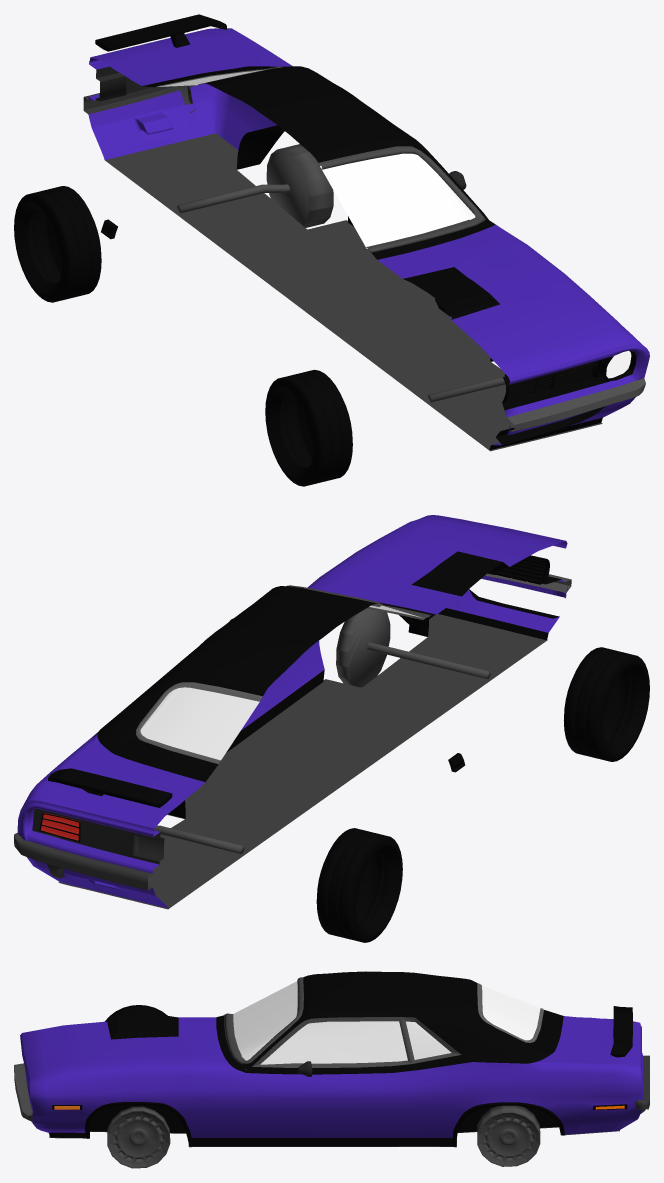
Rendered from bus1.glb.
3 views of the same model, one above another, from view 1: azimuth 30°, elevation 25°; view 2: azimuth 150°, elevation 25°; view 3: azimuth 270°, elevation 25° (orthographic). The views are drawn at different scales.
Visible parts, largest first — view 1: Low poly plymouth car; view 2: Low poly plymouth car; view 3: Low poly plymouth car.
Part boxes in pixels (x1=…): Low poly plymouth car: x1=14, y1=14, x2=649, y2=486; Low poly plymouth car: x1=14, y1=515, x2=649, y2=942; Low poly plymouth car: x1=14, y1=971, x2=649, y2=1168.
Size of the model in its own units: 1.89 by 1.29 by 4.74.
